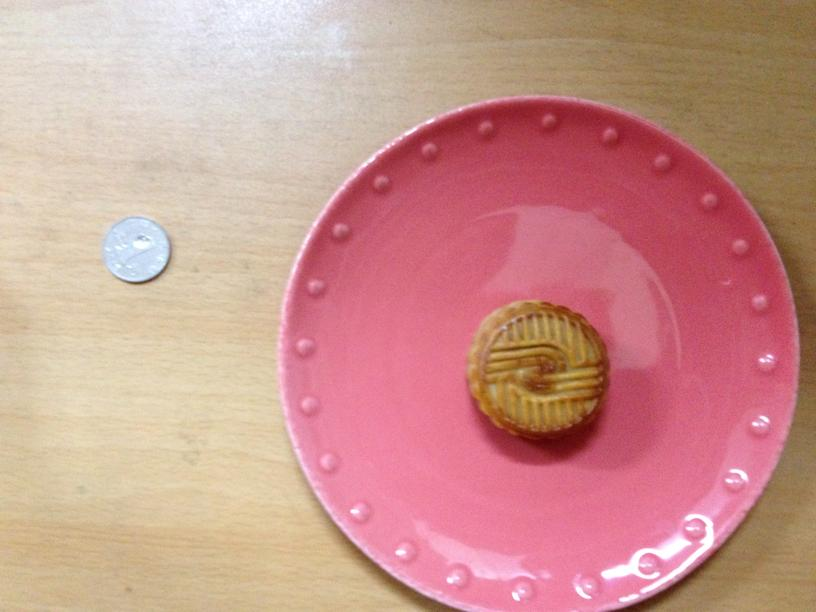coin: (103, 216, 171, 284)
mooncake: (466, 298, 609, 442)
